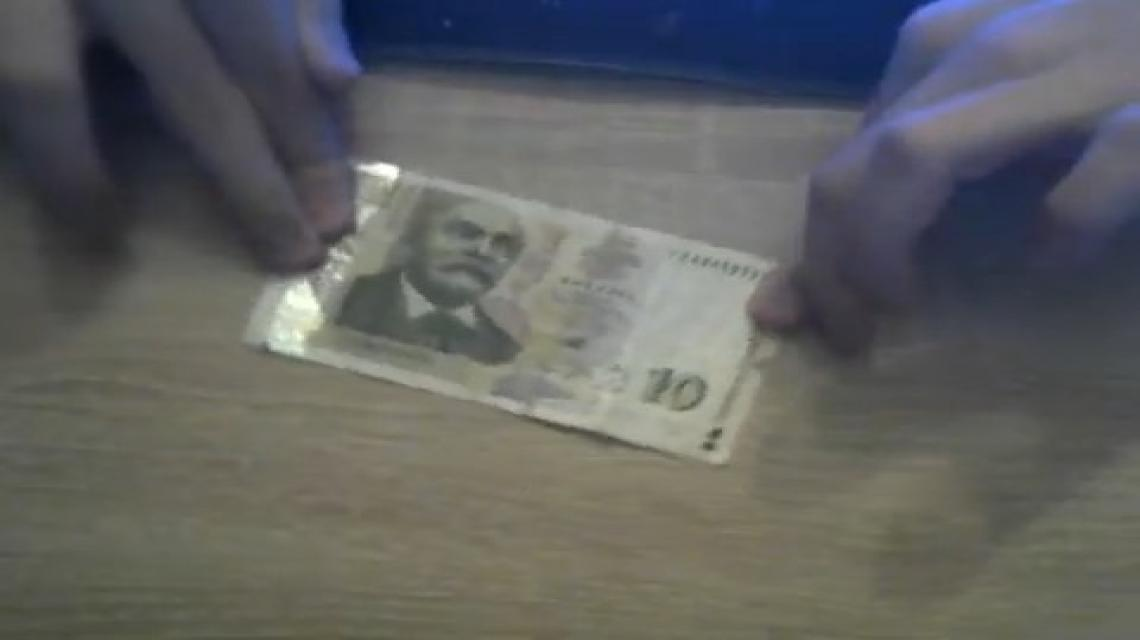10leva: (240, 162, 774, 468)
